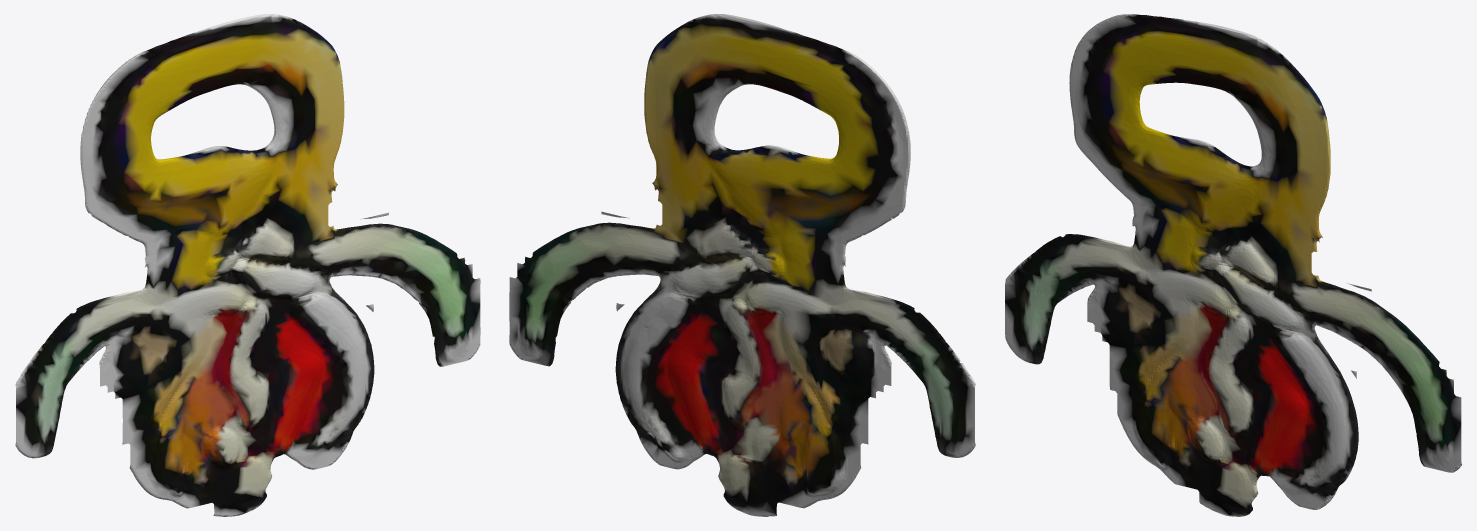
Rendered from amulet_free_action.glb.
The picture shows the model from 3 angles, left to right: view 1: azimuth 30°, elevation 25°; view 2: azimuth 150°, elevation 25°; view 3: azimuth 330°, elevation 25°; orthographic projection. The views are drawn at different scales.
Parts seen in each view (by area): view 1: geometry_0; view 2: geometry_0; view 3: geometry_0.
Boxes of the visible parts, <box> form: geometry_0: <box>15,14,480,516</box>; geometry_0: <box>509,14,975,516</box>; geometry_0: <box>1005,14,1461,516</box>.
Size of the model in its own units: 0.75 by 0.765 by 0.0231.
